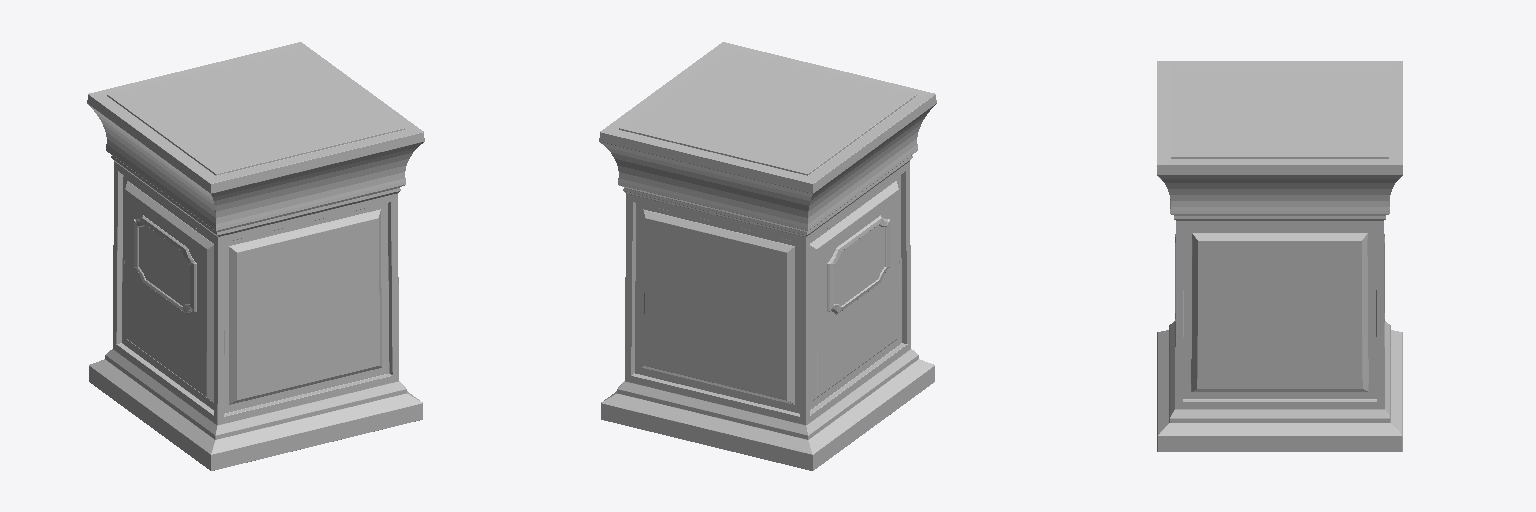
The model's file is pedestal.obj.
The picture shows the model from 3 angles: view 1: azimuth 30°, elevation 25°; view 2: azimuth 150°, elevation 25°; view 3: azimuth 270°, elevation 25°; orthographic projection.
Visible parts, largest first — view 1: Object_8, Object_9, Object_10; view 2: Object_8, Object_9, Object_10; view 3: Object_8, Object_9.
Boxes of the visible parts, x1,y1,x2,y2 form: Object_8: [87, 42, 424, 470]; Object_9: [107, 49, 404, 175]; Object_10: [134, 215, 196, 314]; Object_8: [599, 42, 936, 470]; Object_9: [619, 49, 916, 175]; Object_10: [827, 215, 889, 314]; Object_8: [1157, 61, 1402, 451]; Object_9: [1171, 65, 1388, 158].
Size of the model in its own units: 1.45 by 1.87 by 1.45.